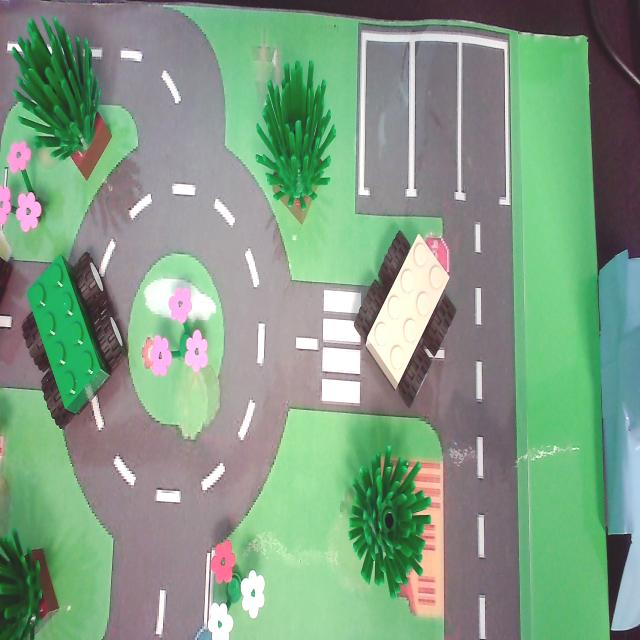Car: (331, 214, 467, 424), (17, 240, 128, 443)
Flower: (142, 277, 220, 400), (198, 524, 274, 640), (0, 138, 44, 236)
Tree: (19, 3, 128, 201), (242, 64, 346, 230), (336, 447, 436, 607), (0, 519, 72, 640)
